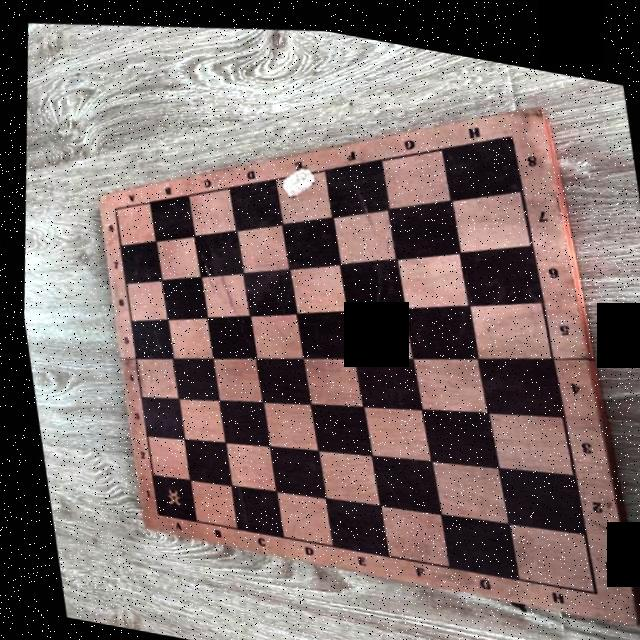chess-table-corners: (572, 565, 600, 597), (496, 113, 522, 138), (140, 502, 160, 520), (102, 198, 120, 214)
